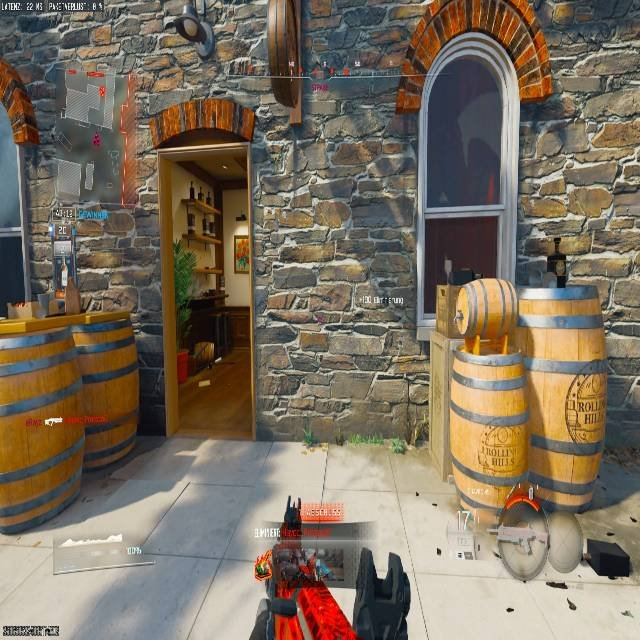player: (254, 516, 331, 639)
